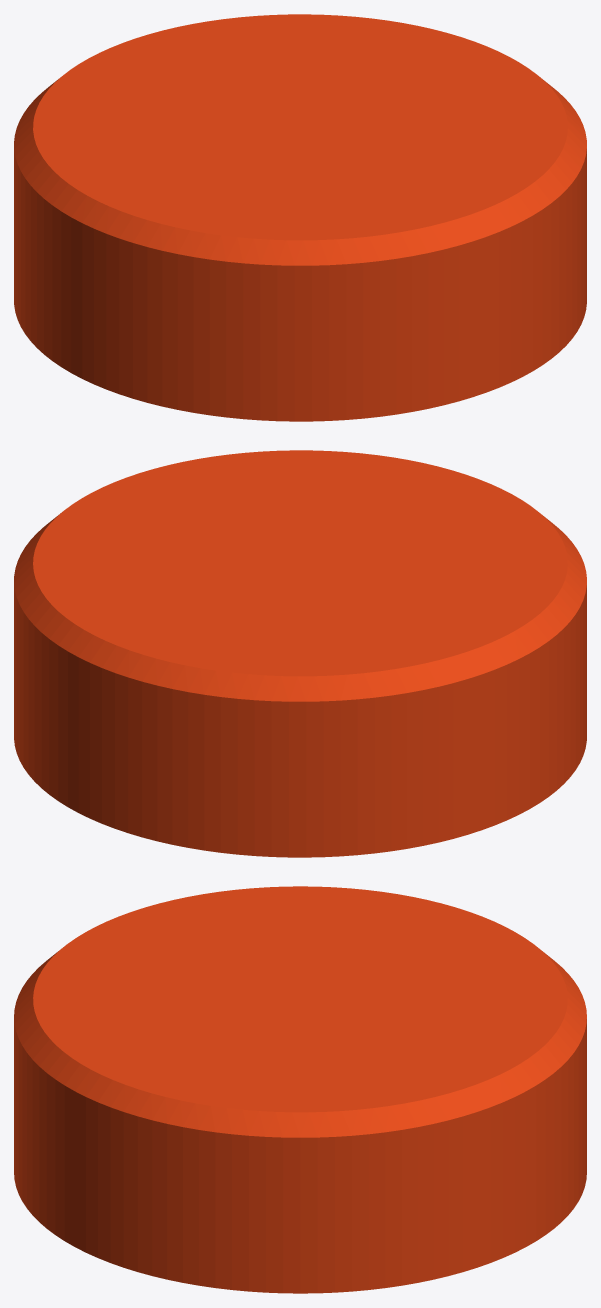
The model's file is hand.dae.
3 renders of one model, top to bottom at view 1: azimuth 30°, elevation 25°; view 2: azimuth 150°, elevation 25°; view 3: azimuth 270°, elevation 25°, orthographic.
Parts seen in each view (by area): view 1: 3MF Object; view 2: 3MF Object; view 3: 3MF Object.
Boxes of the visible parts, x1=… form: 3MF Object: x1=14, y1=14, x2=586, y2=421; 3MF Object: x1=14, y1=450, x2=586, y2=857; 3MF Object: x1=14, y1=886, x2=586, y2=1293.
Size of the model in its own units: 0.03 by 0.03 by 0.01.
